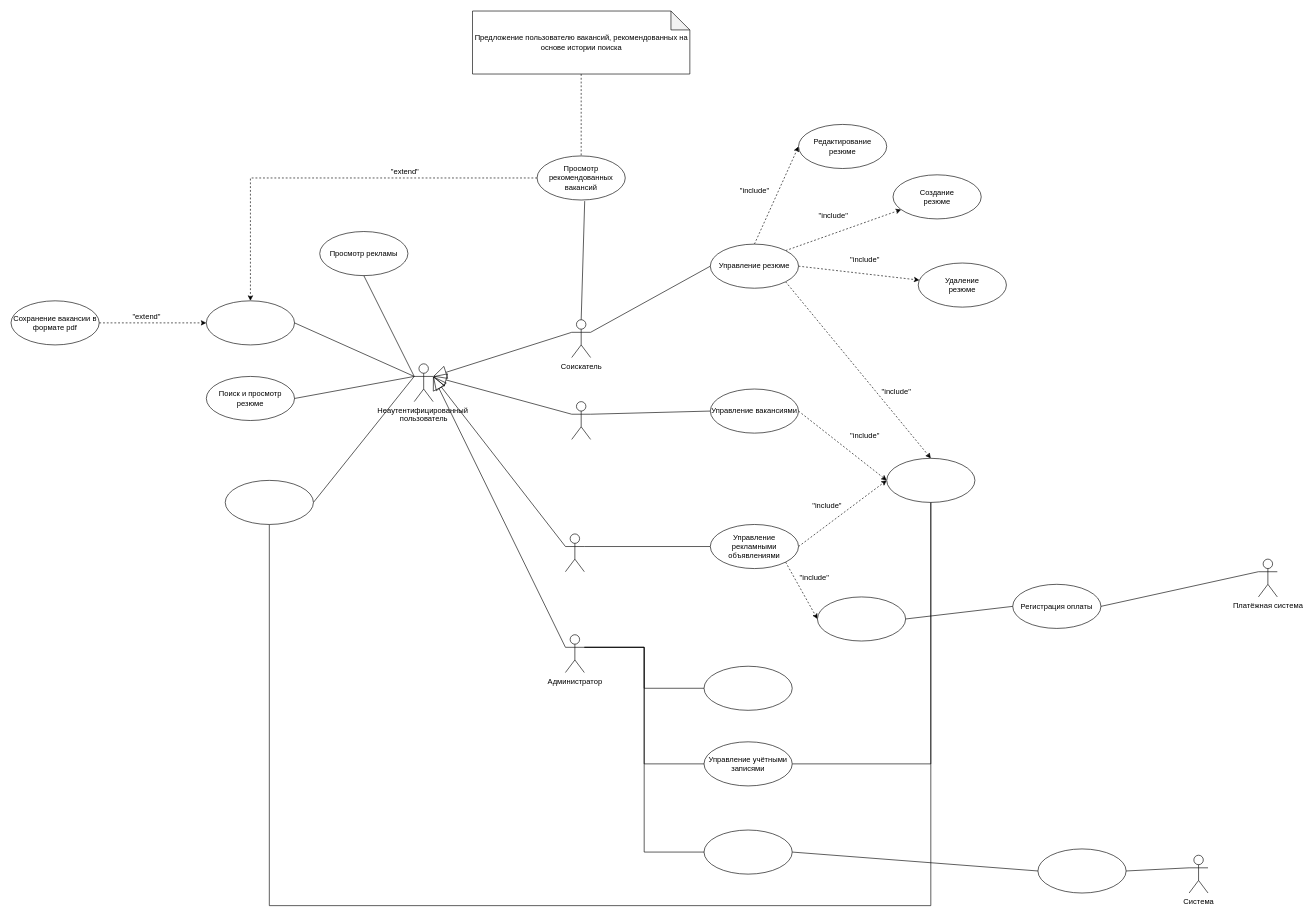
Some shapes in this 1314 by 917 pixel diagram are drawn without their labels. The shapes that lost their labels are listed below. From the top down, each one's box as (x1, y1, x2, y2) in pixels, then its label:
(206, 300, 295, 345): Поиск и просмотр вакансий
(571, 401, 591, 439): Работодатель
(886, 458, 975, 502): Аутентификация
(225, 480, 313, 524): Регистрация на сайте
(565, 533, 584, 572): Рекламодатель
(817, 596, 906, 641): Публикация рекламного объявления
(703, 666, 792, 710): Модерация содержимого
(703, 829, 792, 874): Резервное копирование данных
(1037, 848, 1126, 893): Автоматическое резервное копирование по расписанию
